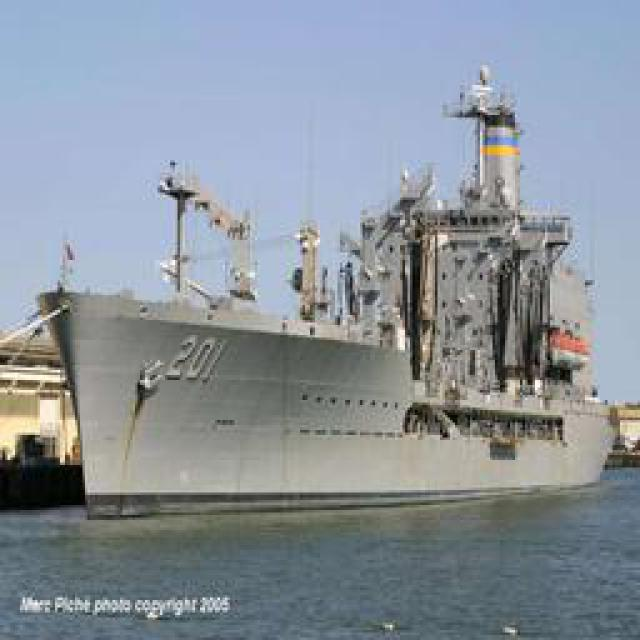Ship: (40, 50, 603, 513)
